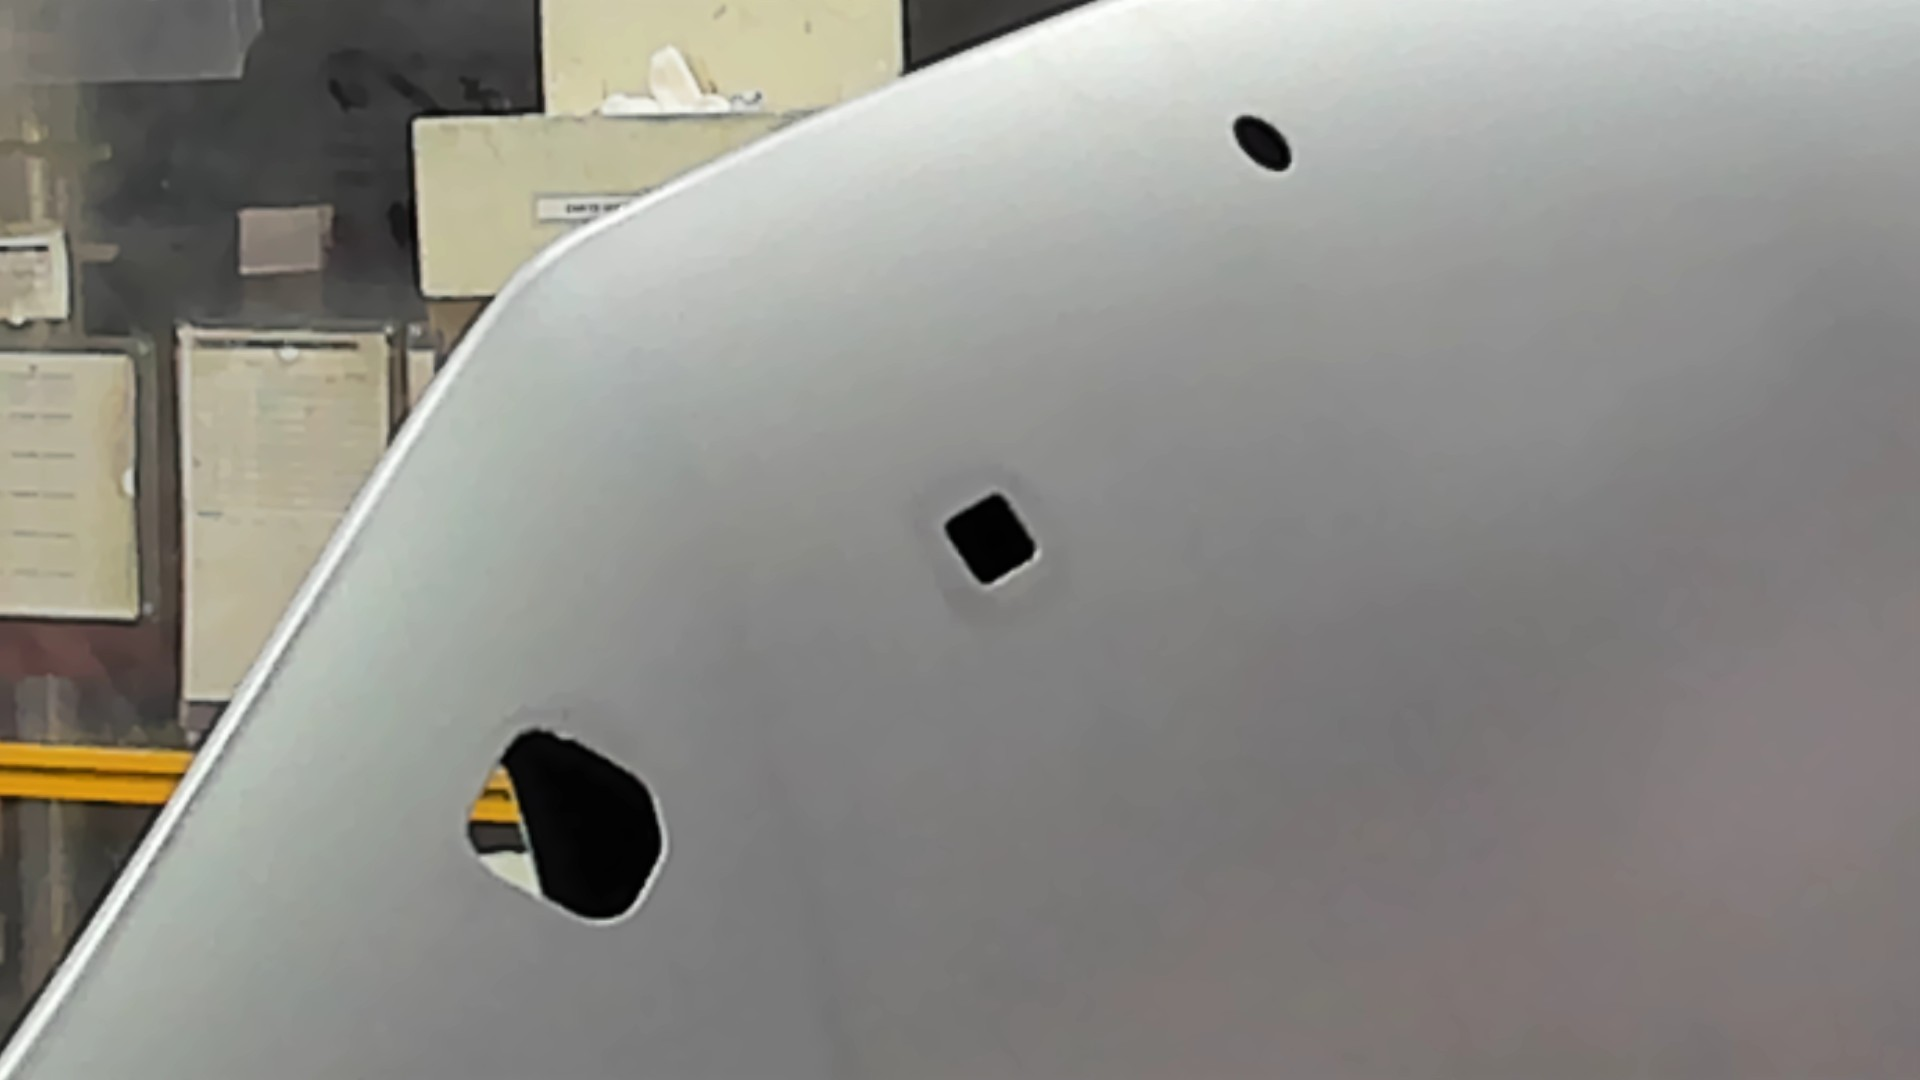chico: (1228, 111, 1295, 177)
grande: (462, 724, 673, 928)
mediano: (938, 483, 1046, 597)
